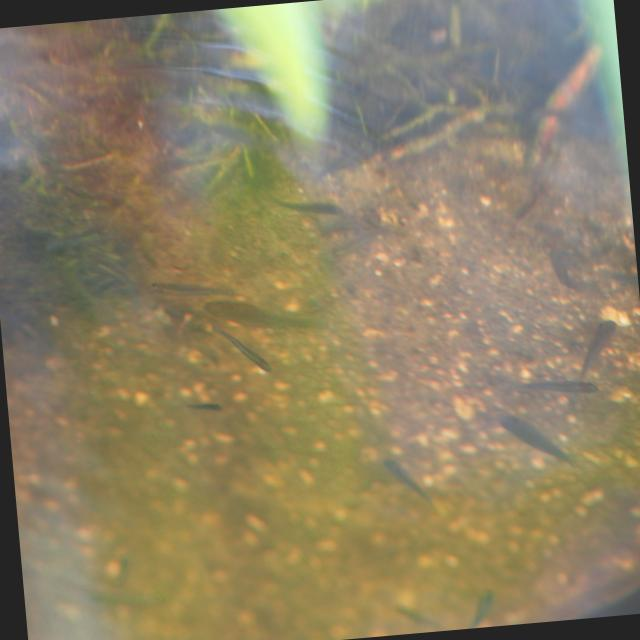Sivrisinek Baligi: (493, 403, 582, 478), (566, 316, 626, 374), (268, 186, 346, 230), (516, 370, 598, 410), (383, 445, 432, 507), (214, 322, 272, 374), (149, 274, 238, 304), (182, 393, 224, 416)
